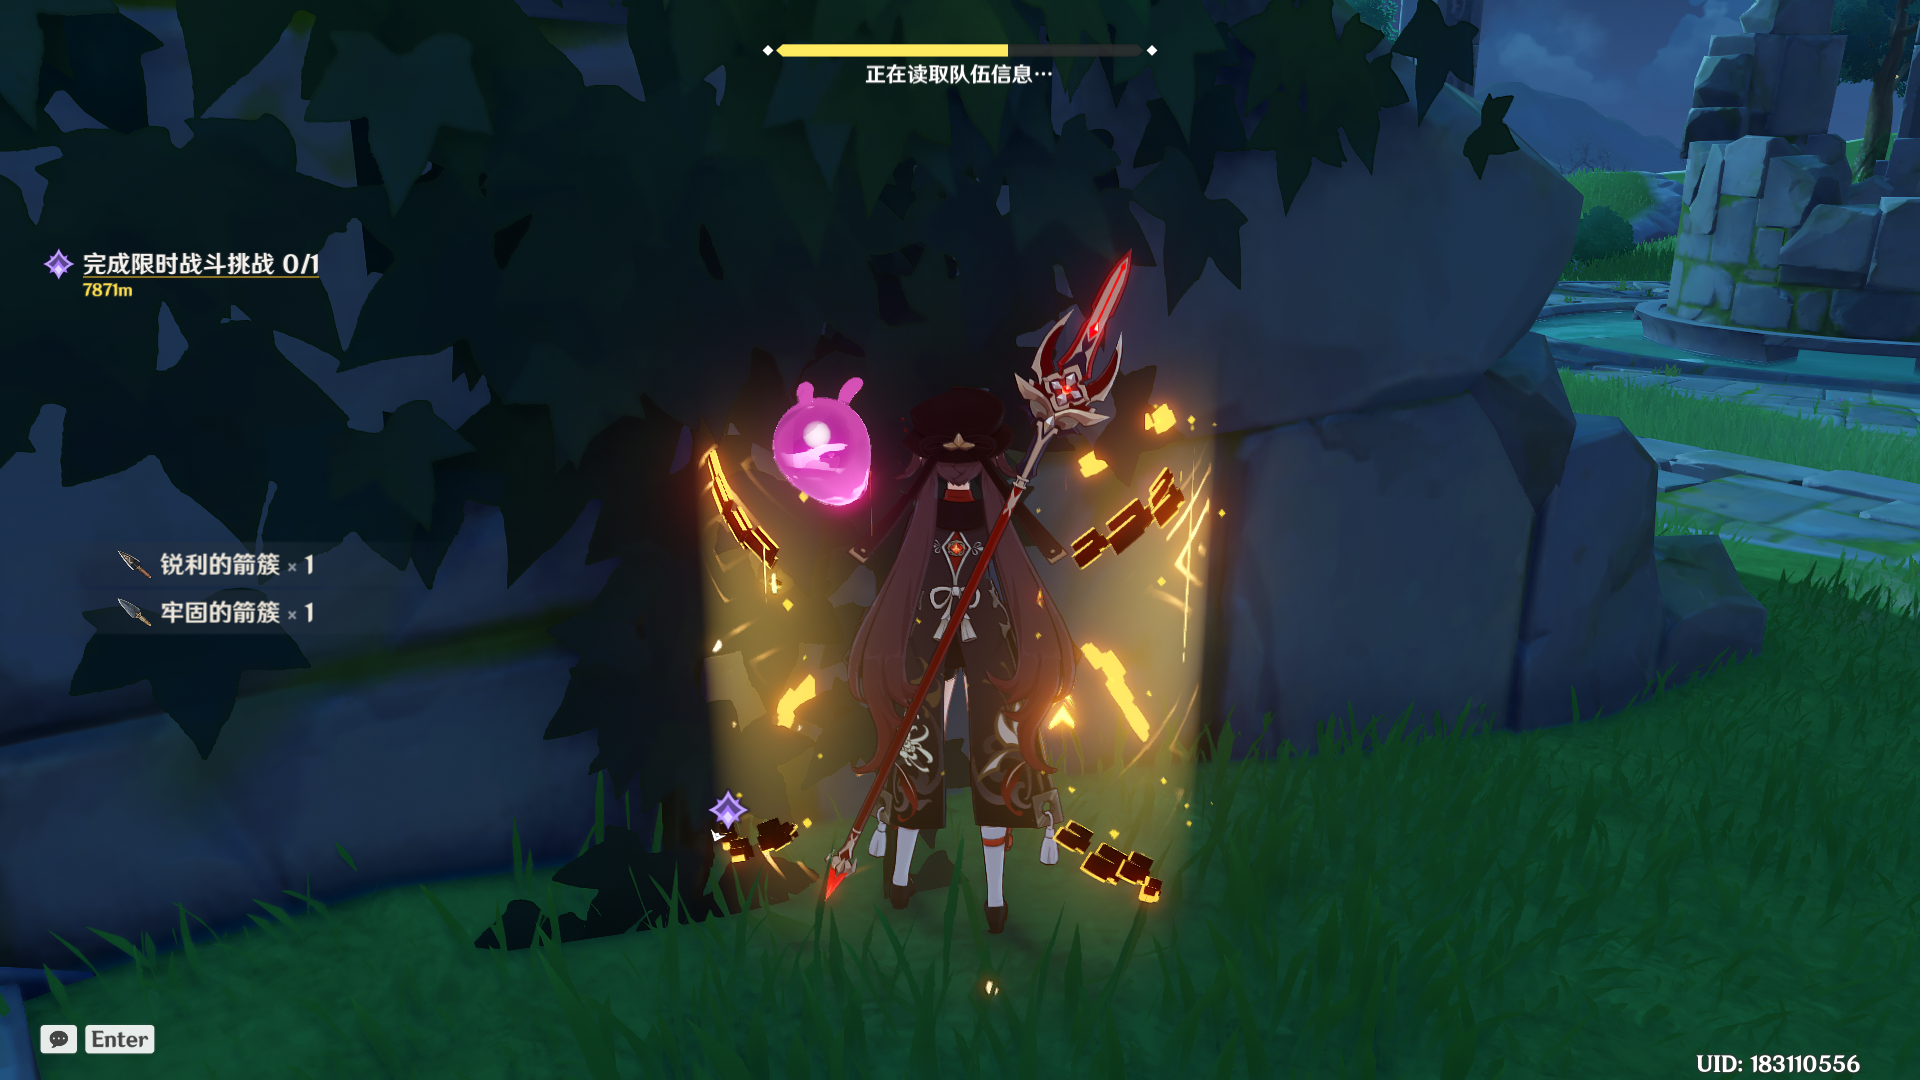character: (761, 345, 1211, 953)
